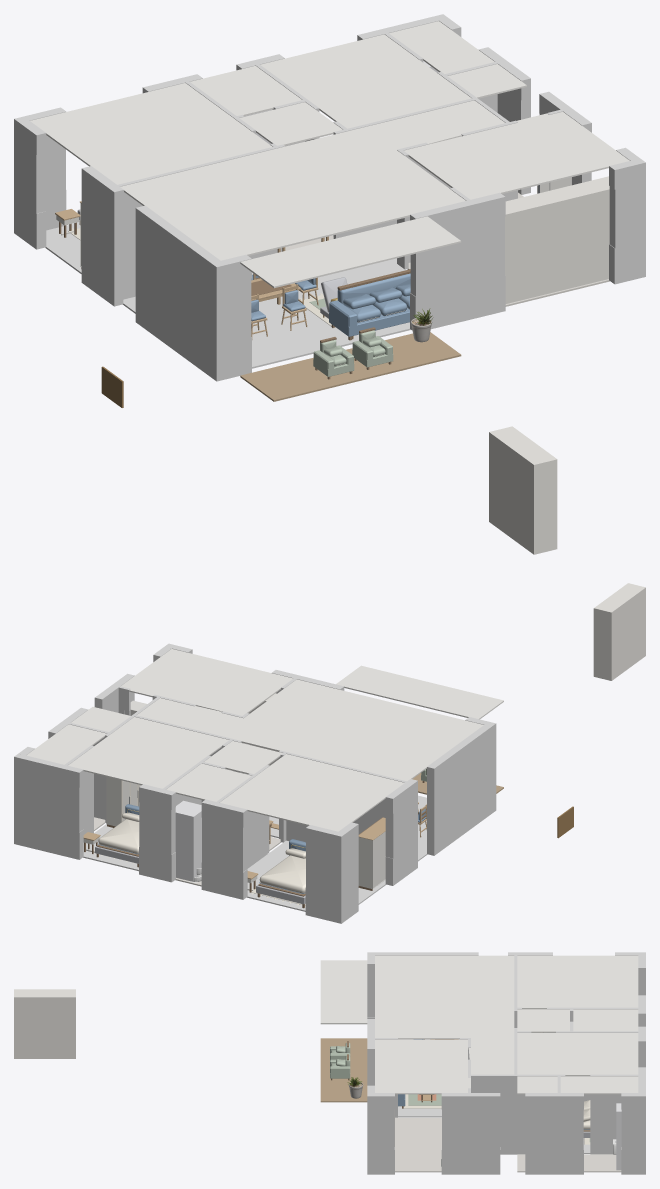
The model's file is 2bhk-modern.glb.
3 views of the same model, one above another, from view 1: azimuth 30°, elevation 25°; view 2: azimuth 150°, elevation 25°; view 3: azimuth 270°, elevation 25° (orthographic). The views are drawn at different scales.
Parts seen in each view (by area): view 1: ceil-living, ceil-bedroom1, ceil-kitchen, furn-kitchen-south, ceil-bedroom2, wall-12, wall-0, furn-kitchen-east, ceil-balcony, floor-living, floor-balcony, wall-4 (+16 smaller); view 2: ceil-living, ceil-bedroom1, wall-23, ceil-bedroom2, ceil-kitchen, wall-0, furn-kitchen-east, wall-7, ceil-balcony, wall-5, wall-14, wall-2 (+20 smaller); view 3: ceil-living, ceil-bedroom1, ceil-bedroom2, ceil-kitchen, furn-kitchen-east, ceil-balcony, wall-34, floor-kitchen, wall-33, floor-balcony, wall-32, wall-35 (+22 smaller).
Part boxes in pixels (x1,y1,x2,y2): ceil-living: (120, 100, 505, 260); ceil-bedroom1: (30, 83, 272, 184); ceil-kitchen: (404, 112, 629, 199); furn-kitchen-south: (505, 176, 609, 303); ceil-bedroom2: (260, 34, 471, 128); wall-12: (410, 192, 505, 330); wall-0: (135, 205, 220, 376); furn-kitchen-east: (489, 426, 557, 554); ceil-balcony: (240, 216, 461, 288); floor-living: (123, 258, 410, 368); floor-balcony: (240, 332, 461, 401); wall-4: (211, 254, 251, 381); ceil-living: (137, 679, 483, 781); ceil-bedroom1: (220, 754, 404, 831); wall-23: (14, 753, 83, 859); ceil-bedroom2: (68, 717, 228, 788); ceil-kitchen: (121, 649, 293, 715); wall-0: (427, 725, 491, 855); furn-kitchen-east: (593, 583, 645, 680); wall-7: (201, 799, 247, 899); ceil-balcony: (336, 665, 503, 719); wall-5: (305, 825, 345, 923); wall-14: (139, 784, 175, 882); wall-2: (385, 782, 412, 885); ceil-living: (375, 955, 514, 1074); ceil-bedroom1: (517, 955, 638, 1009); ceil-bedroom2: (517, 1033, 638, 1075); ceil-kitchen: (375, 1039, 470, 1094); furn-kitchen-east: (14, 989, 75, 1058); ceil-balcony: (320, 960, 367, 1024); wall-34: (525, 1093, 557, 1174); floor-kitchen: (395, 1117, 441, 1172); wall-33: (471, 1093, 500, 1174); floor-balcony: (320, 1038, 367, 1102); wall-32: (441, 1093, 467, 1174); wall-35: (560, 1093, 583, 1174).
Bounding box in the file's own units: 13.52 × 2.85 × 20.4.
Materials: 110 (3 with a texture image).
